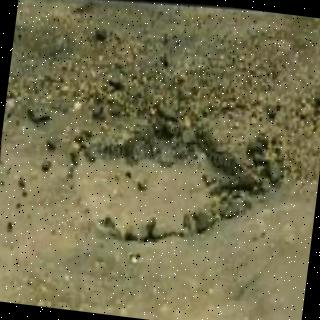pothole: (74, 117, 266, 243)
